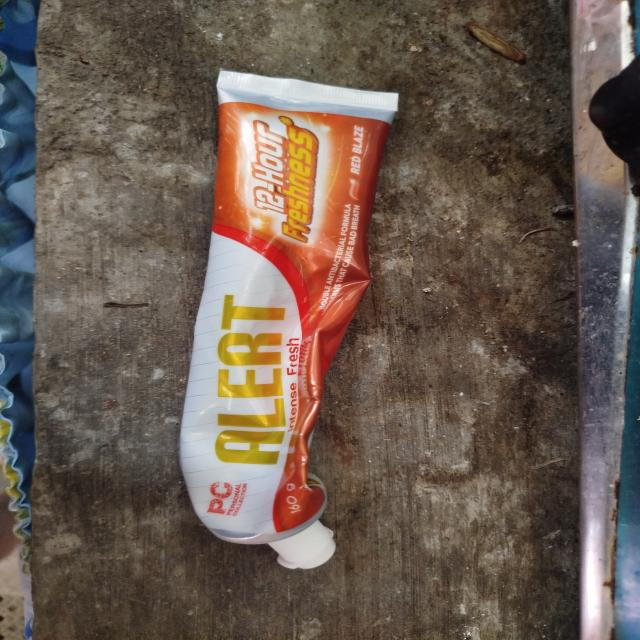residual: (181, 56, 424, 578)
